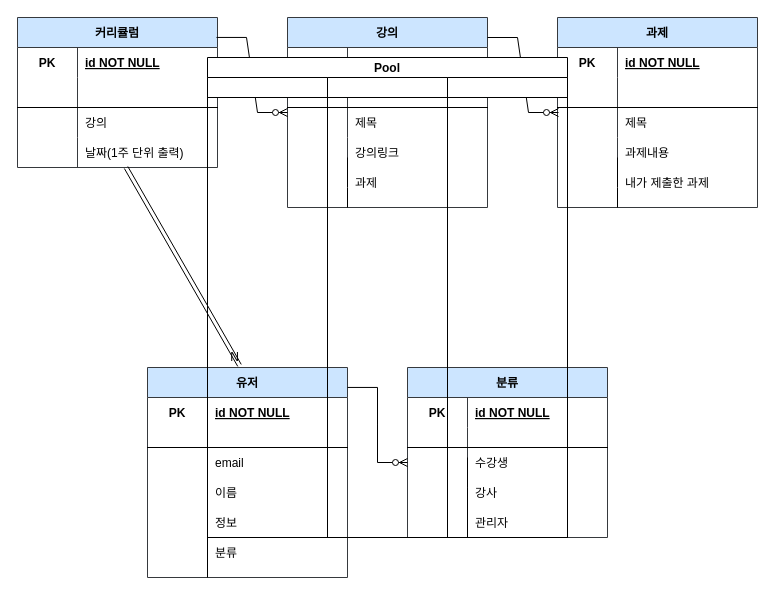
Some shapes in this 775 by 596 pixel diagram are drawn without their labels. The shapes that lost their labels are listed below. From the top down, each one's centre as x and y in pixels, then its label:
the point at 267,307: Lane 1
the point at 387,307: Lane 2
the point at 507,307: Lane 3
